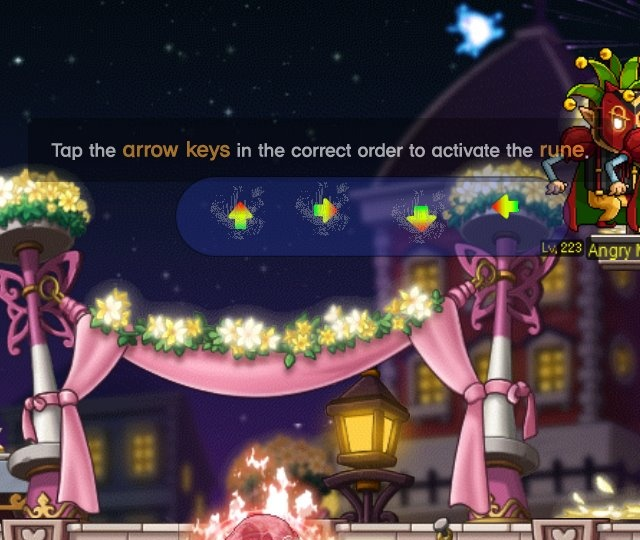down: (401, 199, 444, 239)
left: (485, 187, 527, 227)
right: (310, 195, 346, 230)
up: (216, 194, 262, 234)
